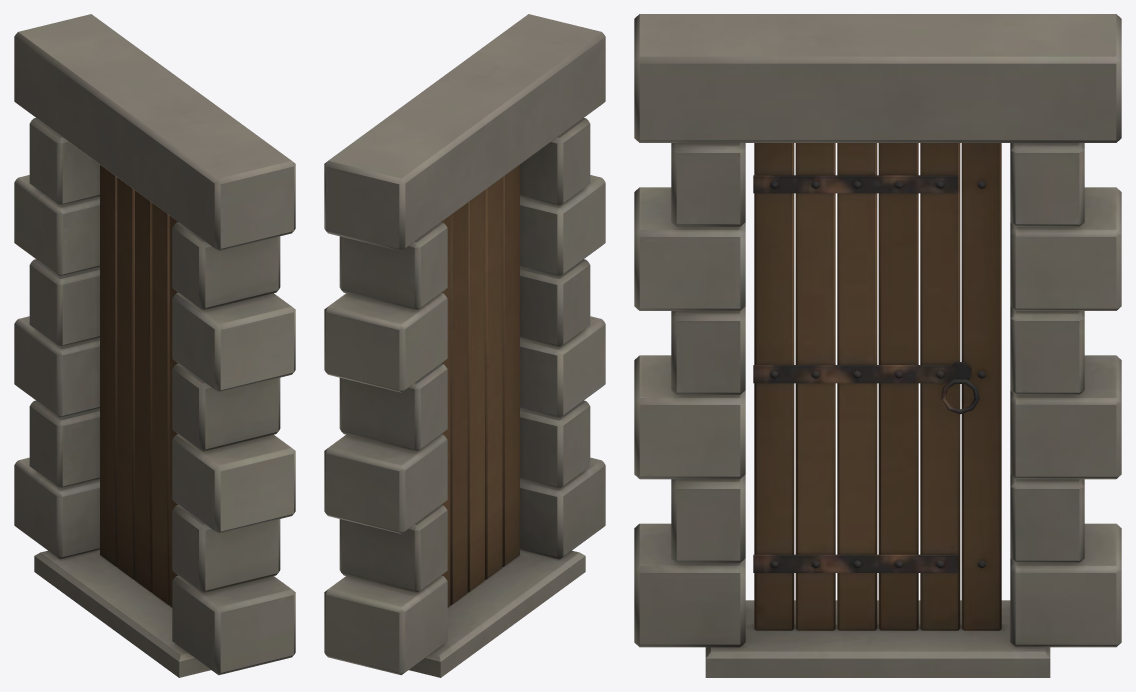
Rendered from door.glb.
The picture shows the model from 3 angles, left to right: view 1: azimuth 30°, elevation 25°; view 2: azimuth 150°, elevation 25°; view 3: azimuth 270°, elevation 25°; orthographic projection. The views are drawn at different scales.
Visible parts, largest first — view 1: door.001; view 2: door.001; view 3: door.001.
Part boxes in pixels (x1,y1,x2,y2): door.001: [14, 14, 295, 677]; door.001: [324, 14, 605, 677]; door.001: [634, 14, 1121, 677].
Bounding box in the file's own units: 0.5 × 2.56 × 1.84.
1 material, 1 textured.
